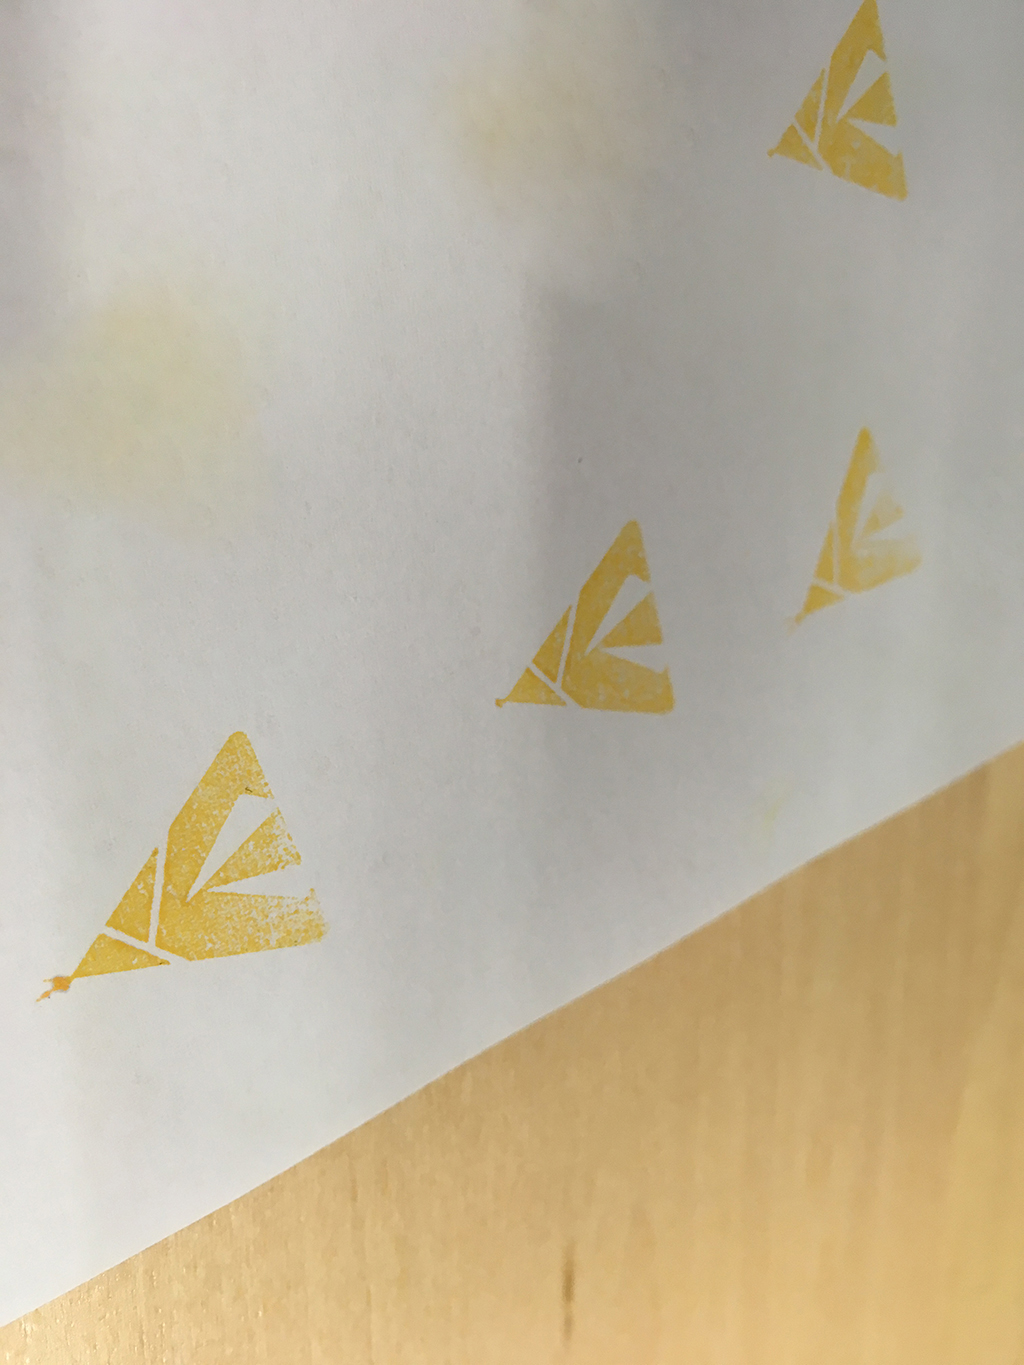tent: (14, 700, 347, 1015), (468, 508, 703, 733), (768, 406, 941, 651), (753, 1, 914, 217)
